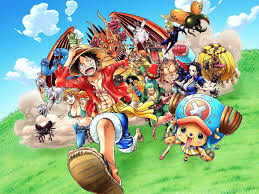chopper: (167, 92, 242, 148)
luffy: (67, 45, 105, 80)
